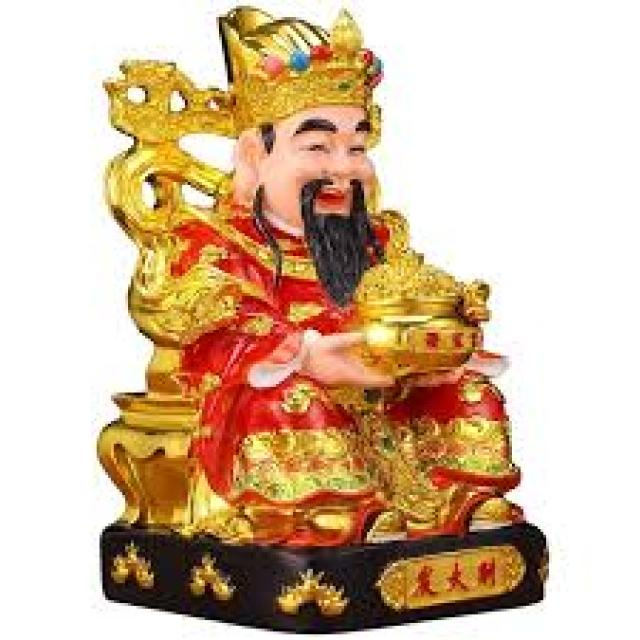Cai shen: (119, 0, 502, 554)
